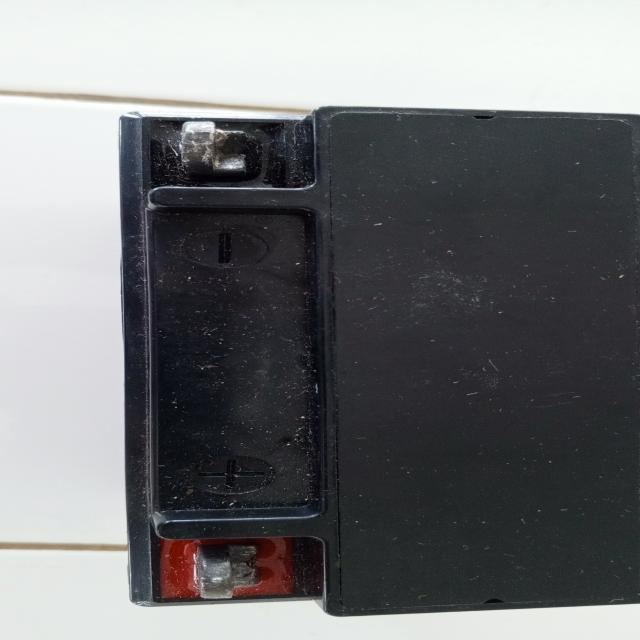Dry Cell: (96, 113, 638, 622)
